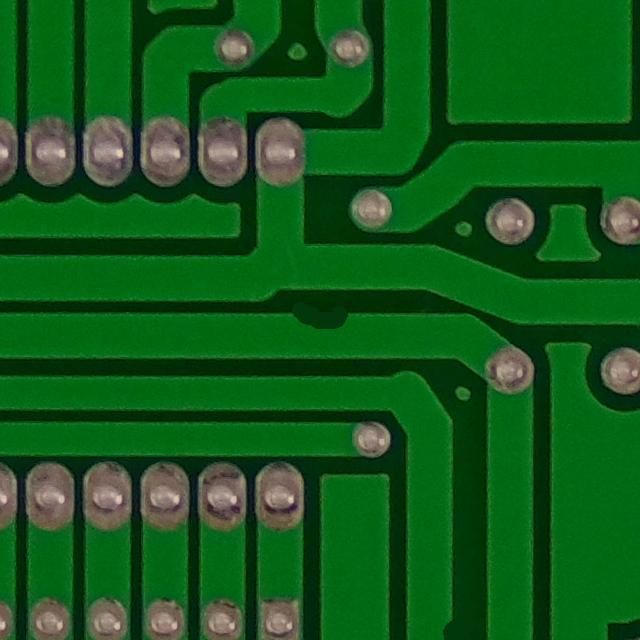mouse_bite: (279, 295, 361, 346)
